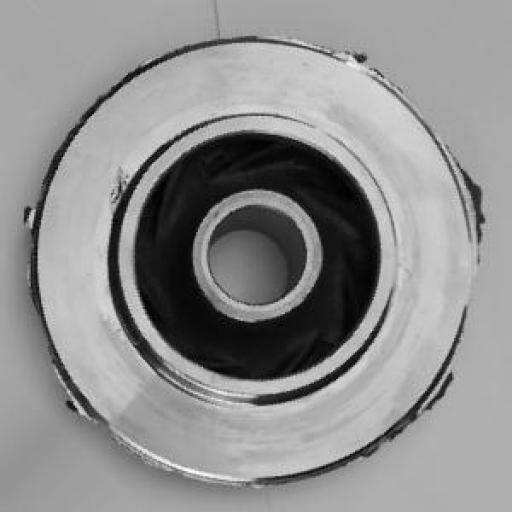defect: (21, 26, 493, 486)
